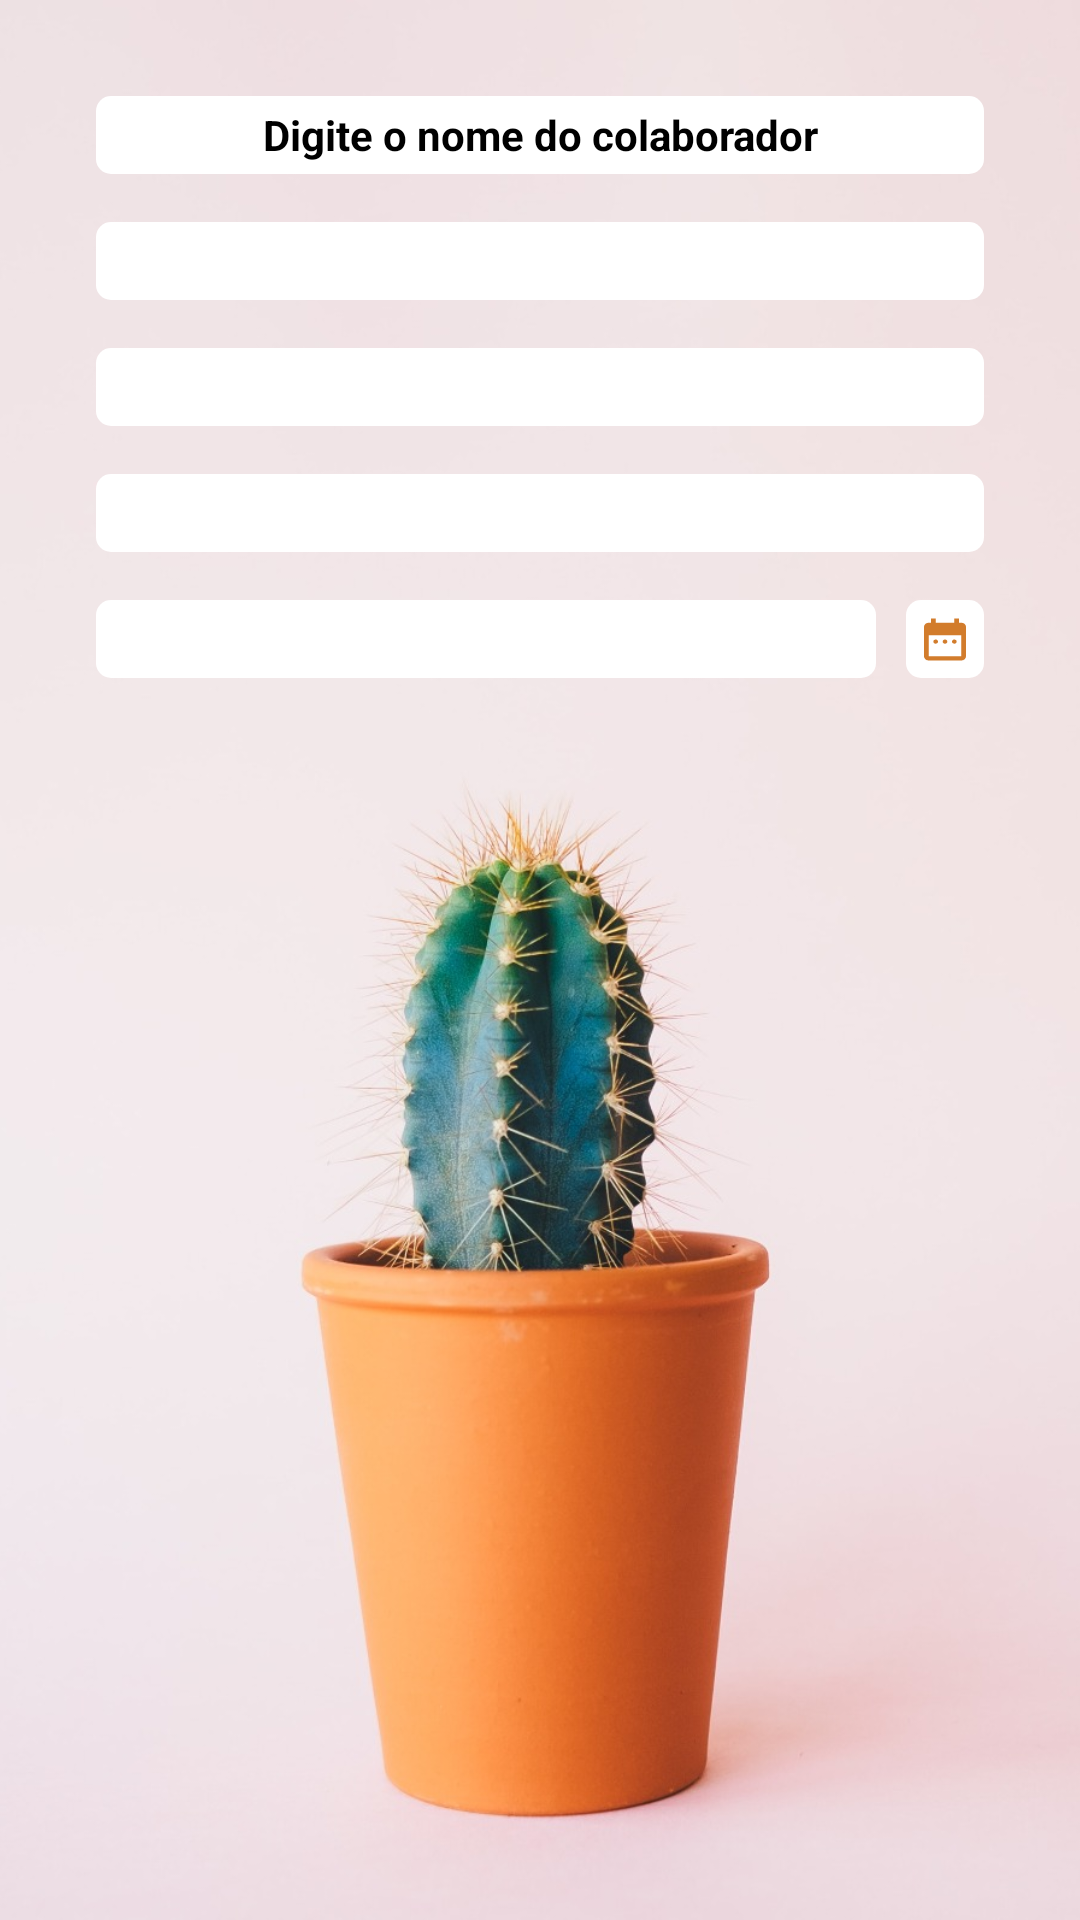

Named icons in this screenshot (1080 x 1920) and their centers, (x,y):
calendar: (945,639)
